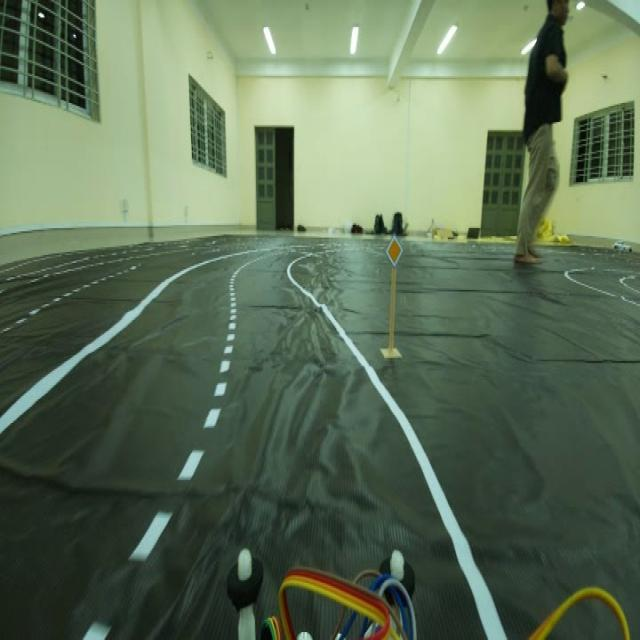priority: (382, 232, 406, 272)
